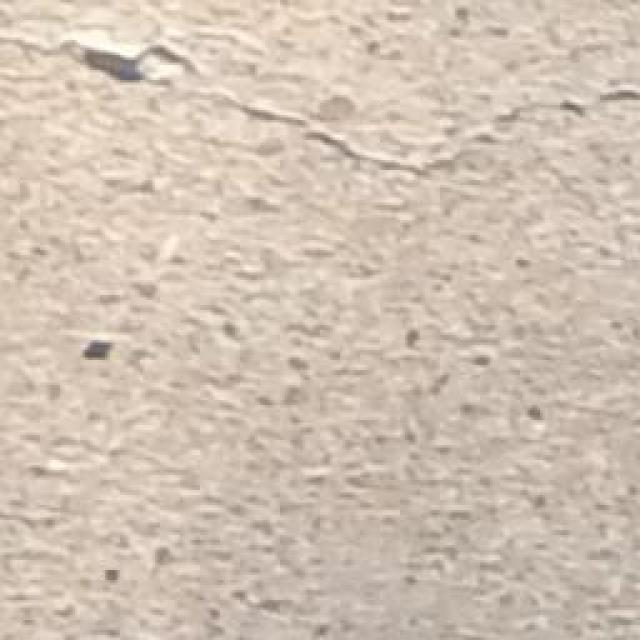concrete-crack: (1, 21, 635, 179)
